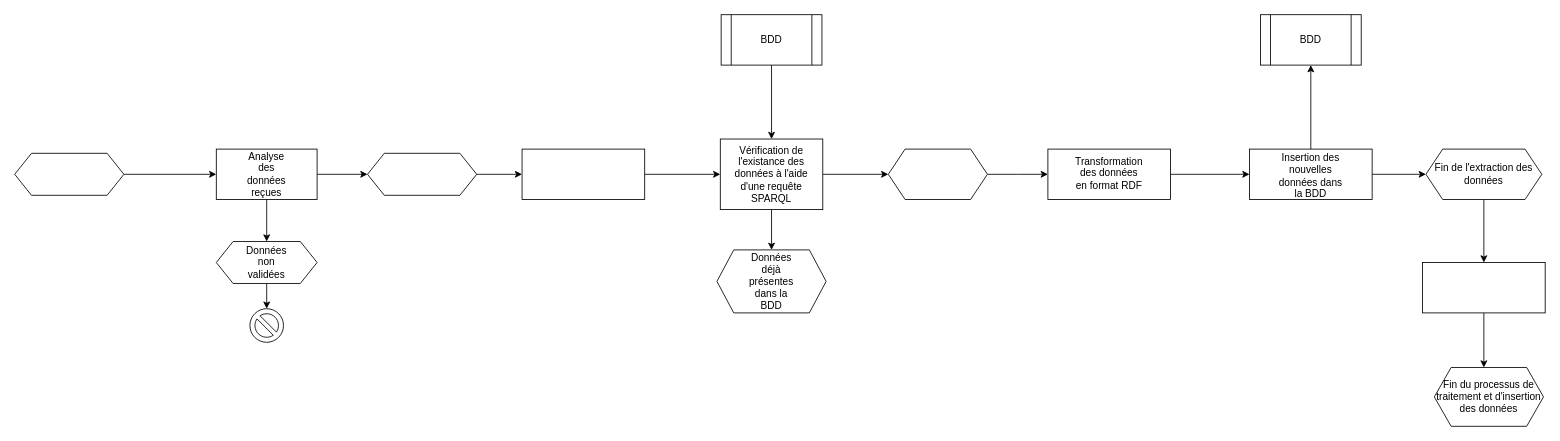
Some shapes in this 1560 by 441 pixel diagram are drawn without their labels. Each missing label, with the box of its shape:
Chargement des données RDF dans la BDD: (1422, 262, 1545, 313)
Données non existantes dans la BDD: (887, 148, 987, 200)
Données validées: (367, 152, 477, 195)
Extraction des données reçues: (521, 148, 645, 200)
Récéption des données: (14, 152, 124, 195)
